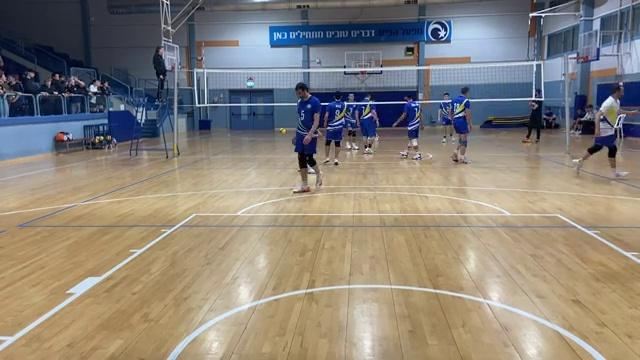ball: (278, 127, 288, 139)
